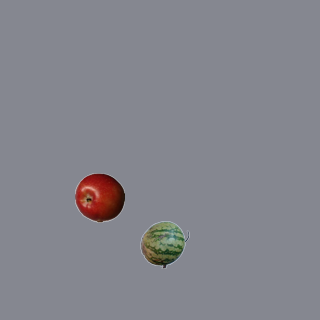Apple Braeburn: (74, 172, 124, 222)
Watermelon: (139, 219, 189, 269)
